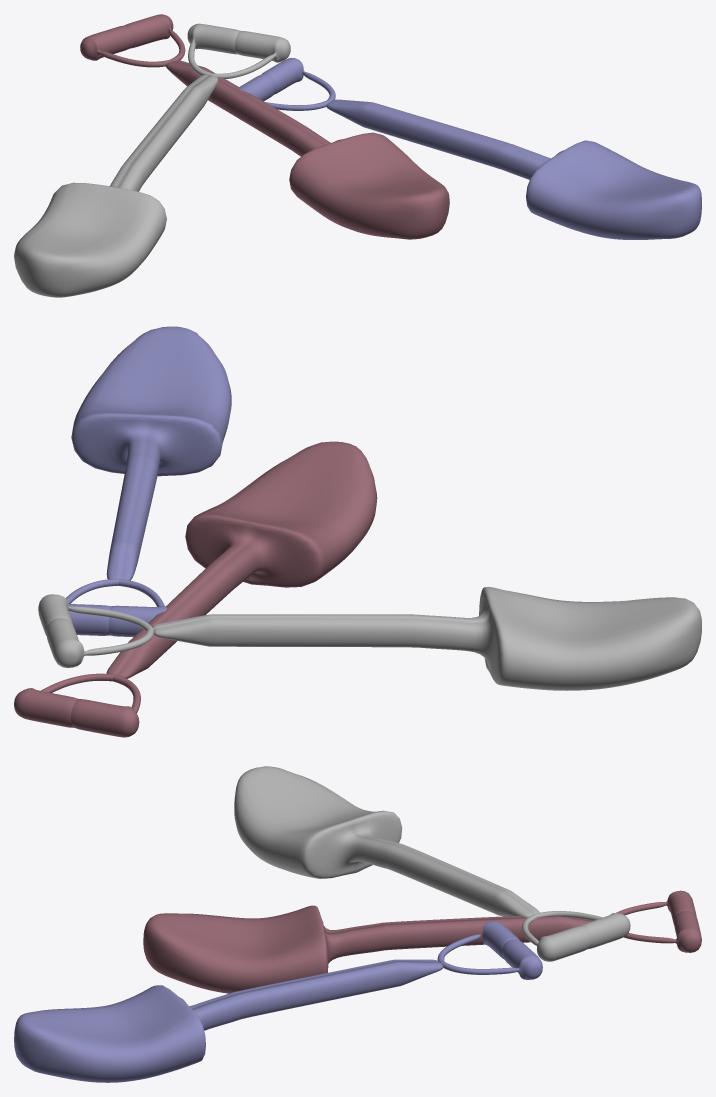
The model's file is Shovels.fbx.
3 renders of one model, top to bottom at view 1: azimuth 30°, elevation 25°; view 2: azimuth 150°, elevation 25°; view 3: azimuth 270°, elevation 25°, orthographic. The views are drawn at different scales.
Parts seen in each view (by area): view 1: Shovel.001, Shovel.002, Shovel; view 2: Shovel.002, Shovel, Shovel.001; view 3: Shovel.001, Shovel, Shovel.002.
Boxes of the visible parts, x1,y1,x2,y2 form: Shovel.001: (239,58,701,239); Shovel.002: (14,23,290,297); Shovel: (80,14,449,239); Shovel.002: (38,586,701,690); Shovel: (14,441,377,737); Shovel.001: (66,326,231,636); Shovel.001: (14,921,542,1082); Shovel: (143,890,701,993); Shovel.002: (234,766,630,961).
Size of the model in its own units: 538 by 65.95 by 543.
